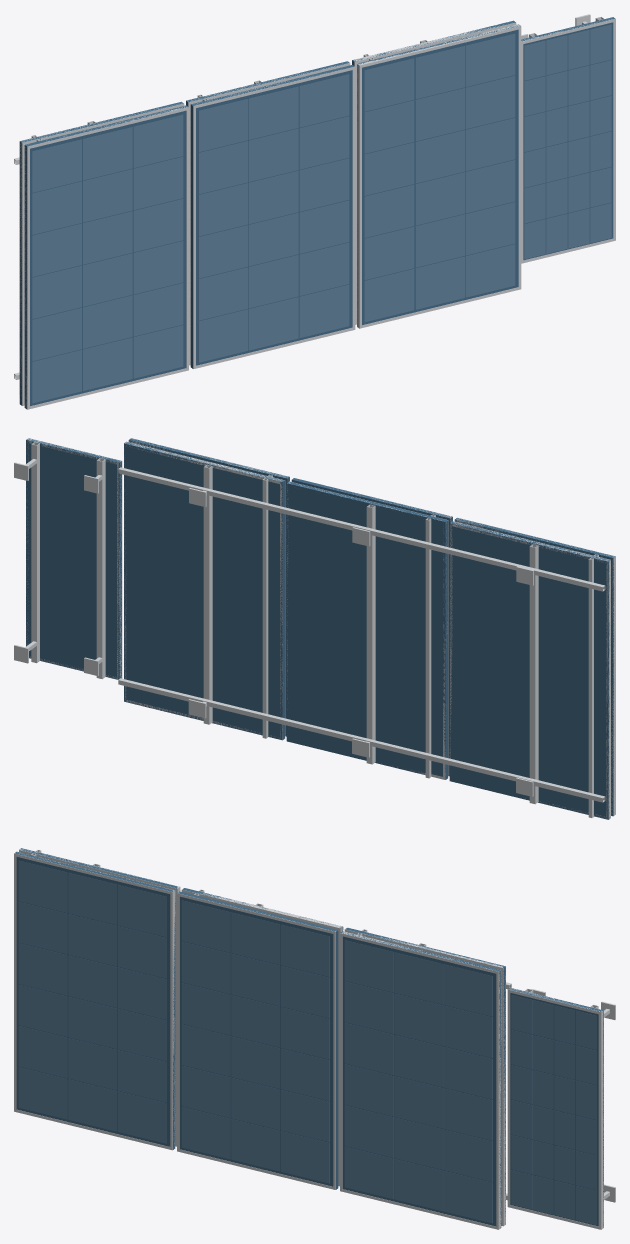
The model's file is cobertura_recolhida.glb.
3 views of the same model, one above another, from view 1: azimuth 30°, elevation 25°; view 2: azimuth 150°, elevation 25°; view 3: azimuth 330°, elevation 25° (orthographic).
Parts seen in each view (by area): view 1: solar_movel__140_modulo450W, solar_movel__113_modulo450W, solar_movel__167_modulo450W, solar_cabine__194_modulo190W, solar_movel__131_celulas, solar_movel__147_celulas, solar_movel__162_celulas, solar_movel__145_celulas, solar_movel__149_celulas, solar_movel__160_celulas, solar_movel__177_celulas, solar_movel__185_celulas (+91 smaller); view 2: solar_fixo__59_modulo450W, solar_fixo__32_modulo450W, solar_fixo__86_modulo450W, solar_cabine__194_modulo190W, suportes__2_longarina_30x30x3_2, suportes__6_longarina_30x30x3_2, suportes__1_longarina_30x30x3_1, suportes__5_longarina_30x30x3_1, solar_movel__113_modulo450W, solar_movel__140_modulo450W, solar_movel__167_modulo450W, suportes__233_travessa_cabine_2 (+22 smaller); view 3: solar_movel__140_modulo450W, solar_movel__113_modulo450W, solar_movel__167_modulo450W, solar_cabine__194_modulo190W, solar_movel__145_celulas, solar_movel__154_celulas, solar_movel__118_celulas, solar_movel__121_celulas, solar_movel__122_celulas, solar_movel__127_celulas, solar_movel__148_celulas, solar_movel__173_celulas (+91 smaller).
Part boxes in pixels (x1,y1,x2,y2): solar_movel__140_modulo450W: [190, 65, 354, 368]; solar_movel__113_modulo450W: [24, 105, 188, 408]; solar_movel__167_modulo450W: [357, 24, 520, 325]; solar_cabine__194_modulo190W: [521, 17, 615, 260]; solar_movel__131_celulas: [133, 283, 183, 336]; solar_movel__147_celulas: [198, 225, 248, 278]; solar_movel__162_celulas: [299, 74, 349, 127]; solar_movel__145_celulas: [198, 309, 248, 362]; solar_movel__149_celulas: [198, 141, 248, 194]; solar_movel__160_celulas: [299, 158, 349, 211]; solar_movel__177_celulas: [364, 58, 414, 111]; solar_movel__185_celulas: [465, 202, 515, 255]; solar_fixo__59_modulo450W: [286, 481, 447, 779]; solar_fixo__32_modulo450W: [449, 521, 610, 819]; solar_fixo__86_modulo450W: [124, 441, 284, 740]; solar_cabine__194_modulo190W: [26, 438, 121, 679]; suportes__2_longarina_30x30x3_2: [118, 680, 602, 801]; suportes__6_longarina_30x30x3_2: [118, 469, 602, 590]; suportes__1_longarina_30x30x3_1: [118, 678, 605, 798]; suportes__5_longarina_30x30x3_1: [118, 467, 605, 587]; solar_movel__113_modulo450W: [454, 518, 615, 816]; solar_movel__140_modulo450W: [291, 478, 452, 776]; solar_movel__167_modulo450W: [129, 438, 289, 736]; suportes__233_travessa_cabine_2: [31, 444, 36, 662]; solar_movel__140_modulo450W: [177, 891, 338, 1189]; solar_movel__113_modulo450W: [15, 851, 175, 1149]; solar_movel__167_modulo450W: [340, 931, 501, 1228]; solar_cabine__194_modulo190W: [508, 987, 603, 1227]; solar_movel__145_celulas: [181, 1107, 230, 1159]; solar_movel__154_celulas: [231, 995, 280, 1047]; solar_movel__118_celulas: [18, 1067, 67, 1119]; solar_movel__121_celulas: [18, 943, 67, 995]; solar_movel__122_celulas: [18, 902, 67, 954]; solar_movel__127_celulas: [68, 955, 117, 1007]; solar_movel__148_celulas: [181, 983, 230, 1035]; solar_movel__173_celulas: [344, 1105, 393, 1157].
Bounding box in the file's own units: 4.16 × 1.76 × 0.3123.
